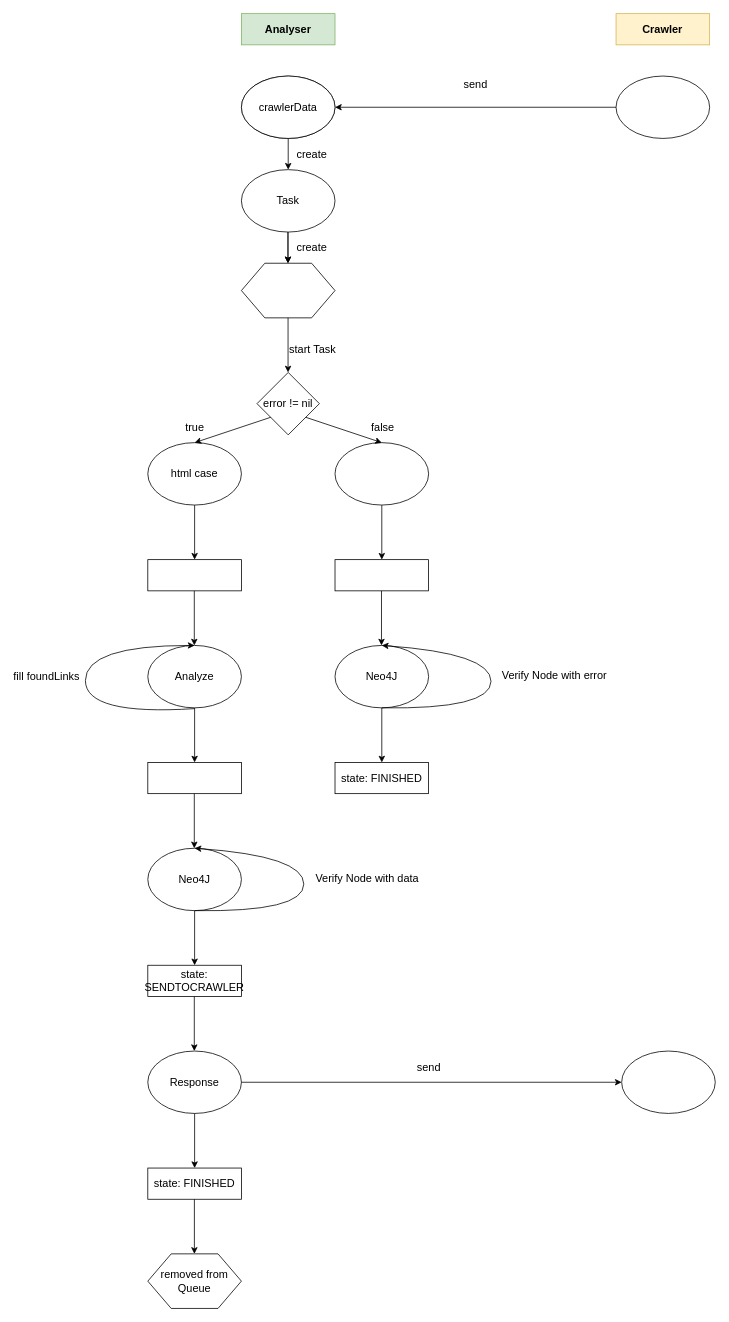
Image size: 729x1322. Some labels were removed from this diagram. The centre of each missing label's shape, as x and y in pixels:
"add to Queue" belongs at point 288,290.
"error case" belongs at point 381,473.
"state: CRAWLERERROR" belongs at point 381,575.
"state: PROCESSING" belongs at point 194,575.
"state: SAVING" belongs at point 194,778.
"Website data" belongs at point 662,106.
"websites to crawl" belongs at point 668,1081.
